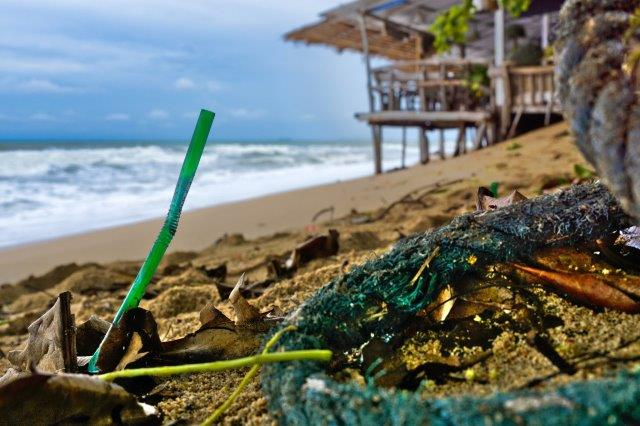sedotan: (93, 113, 213, 365)
